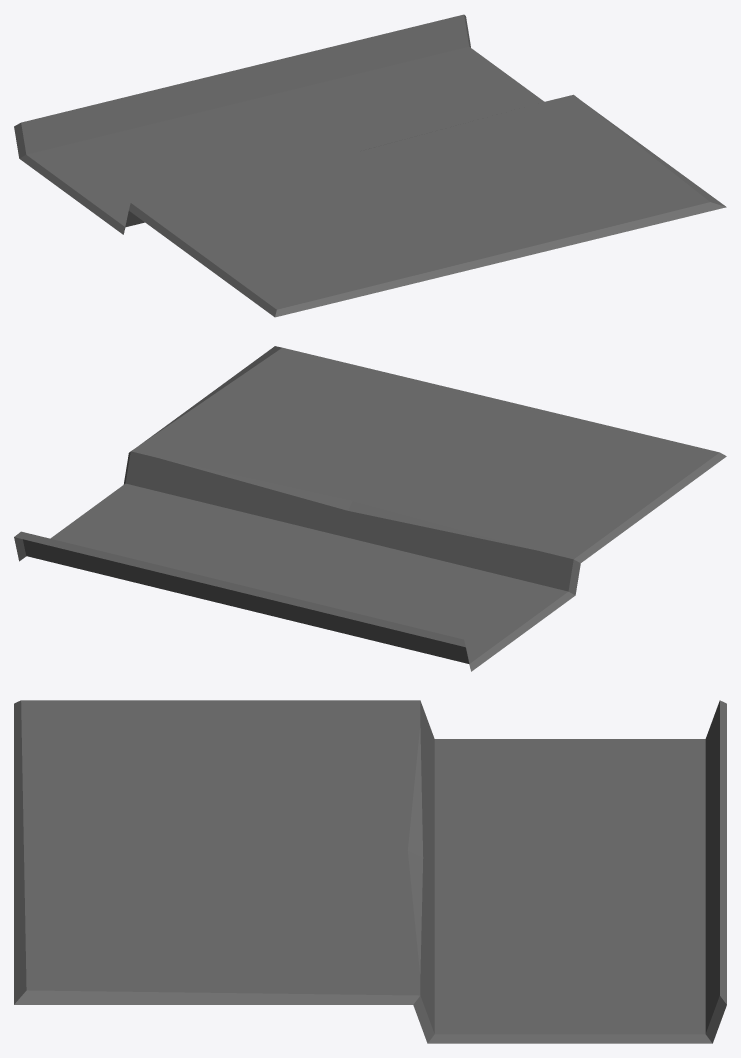
File: SM_Envr_Canal_Floor_03.fbx
3 views of the same model, one above another, from view 1: azimuth 30°, elevation 25°; view 2: azimuth 150°, elevation 25°; view 3: azimuth 270°, elevation 25° (orthographic). The views are drawn at different scales.
Parts seen in each view (by area): view 1: SM_Envr_Canal_Floor_03; view 2: SM_Envr_Canal_Floor_03; view 3: SM_Envr_Canal_Floor_03.
Part boxes in pixels (box(x1,y1,x2,y2)): SM_Envr_Canal_Floor_03: box(14, 14, 726, 317); SM_Envr_Canal_Floor_03: box(14, 346, 726, 671); SM_Envr_Canal_Floor_03: box(14, 700, 726, 1043).
Size of the model in its own units: 500 by 35 by 500.
